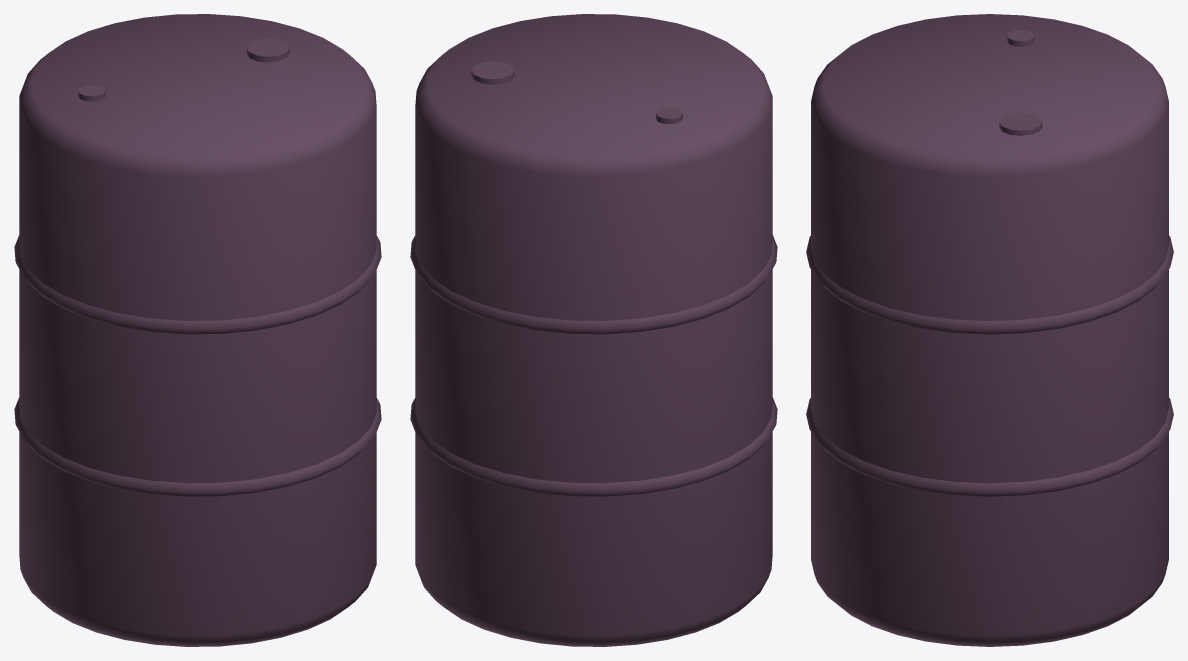
File: drum_blue.fbx
3 renders of one model, left to right at view 1: azimuth 30°, elevation 25°; view 2: azimuth 150°, elevation 25°; view 3: azimuth 270°, elevation 25°, orthographic.
Visible parts, largest first — view 1: drum_blue; view 2: drum_blue; view 3: drum_blue.
Boxes of the visible parts, x1,y1,x2,y2 form: drum_blue: (14,14,381,646); drum_blue: (410,14,777,646); drum_blue: (806,14,1173,646).
Size of the model in its own units: 0.596 by 0.888 by 0.596.
